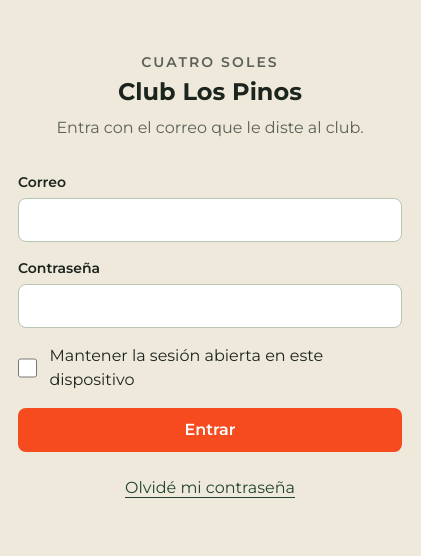
Scenario: Pantalla de ingreso · entrar › una cuenta suspendida recibe su motivo, no el error genérico
Step 1. Type "maria@lospinos.test" into the field labelled "Correo" → (210, 220), box [18,198,402,242]
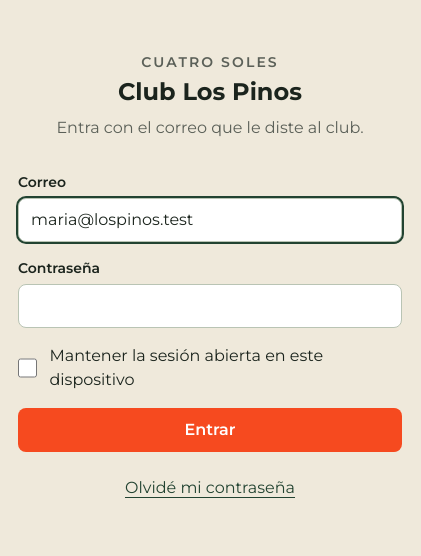
Step 2. Type "mi-clave-larga-9" into the password field labelled "Contraseña" → (210, 306), box [18,284,402,328]
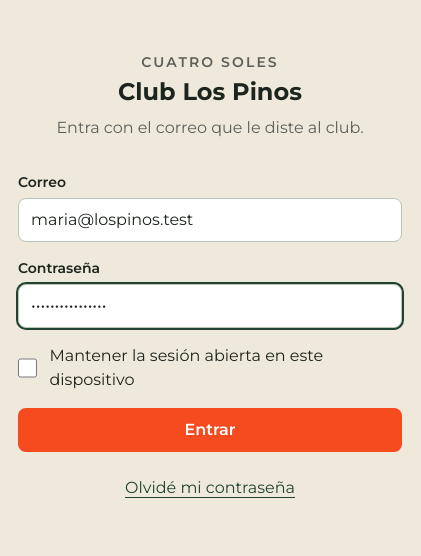
Step 3. Click the button "Entrar" → (210, 430), box [18,408,402,452]
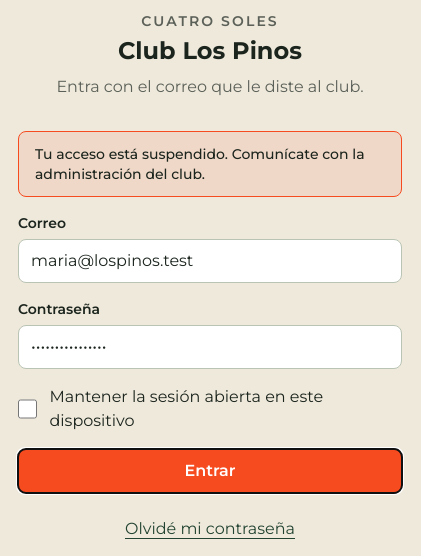
Check: the message reads "Tu acceso está suspendido. Comunícate con la administración del club.", box [35,145,365,183]
